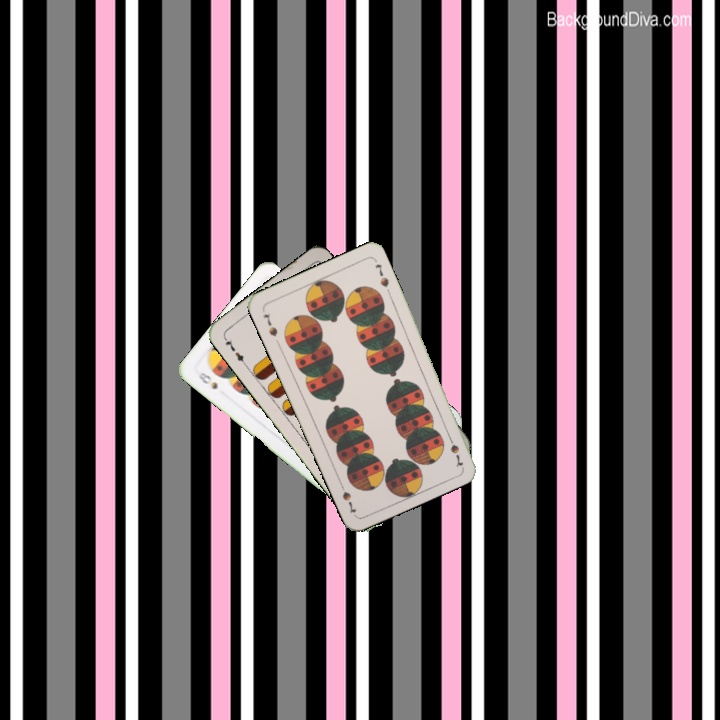E7: (220, 333, 249, 368)
S7: (443, 429, 466, 468), (259, 309, 280, 339)
S8: (194, 368, 220, 392)
